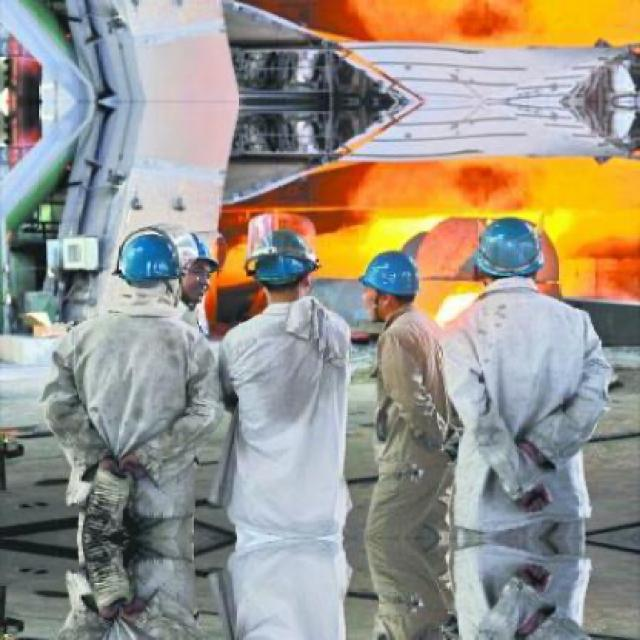helmet: (112, 227, 185, 319), (476, 220, 552, 288), (254, 234, 317, 304), (362, 244, 420, 319), (171, 233, 223, 299)
